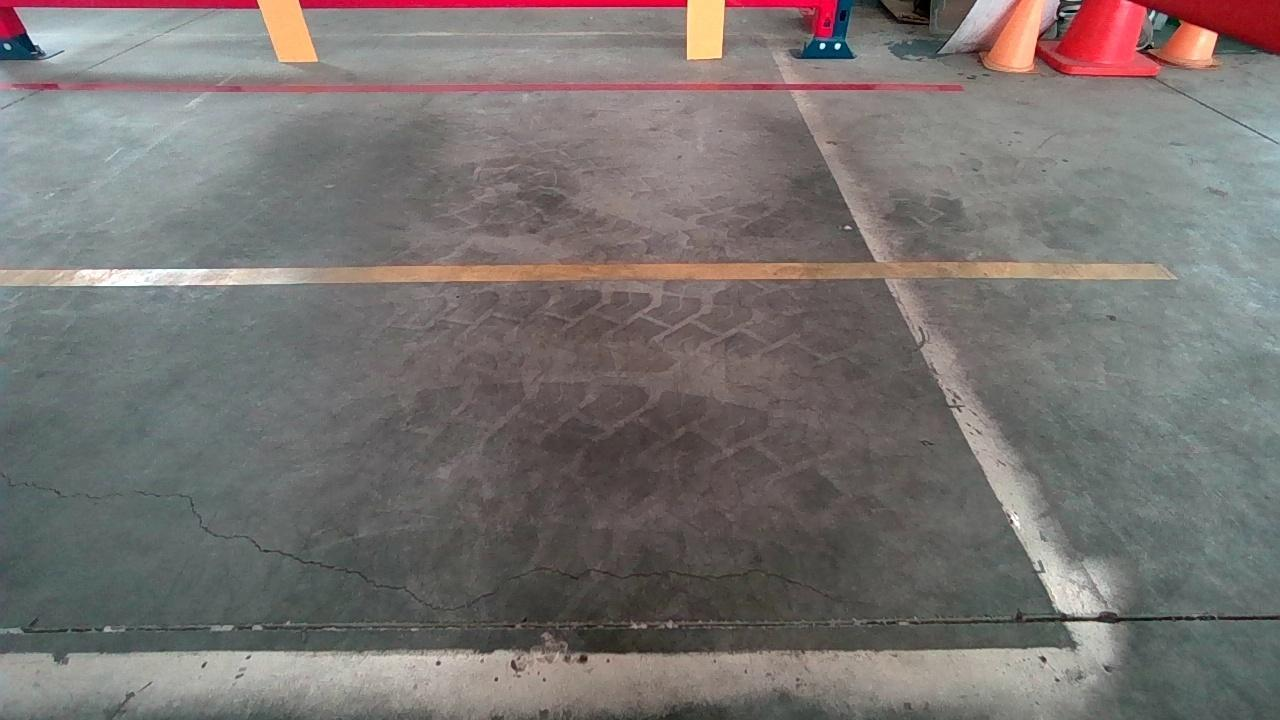orange_strip: (258, 0, 318, 61), (687, 0, 725, 57)
red_line: (1, 78, 961, 101)
yellow_line: (1, 255, 1162, 300)
